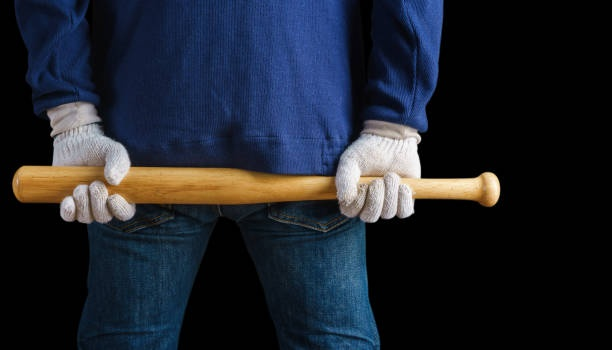bita: (12, 164, 511, 205)
